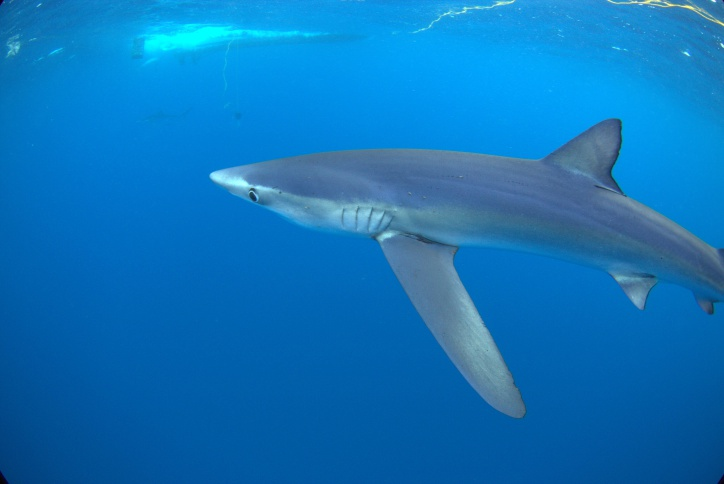Azul: (173, 103, 724, 418)
